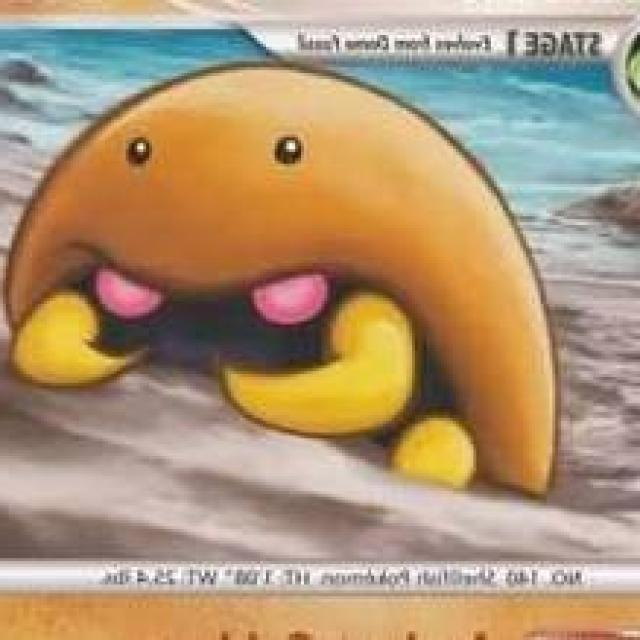Kabuto: (5, 70, 568, 506)
